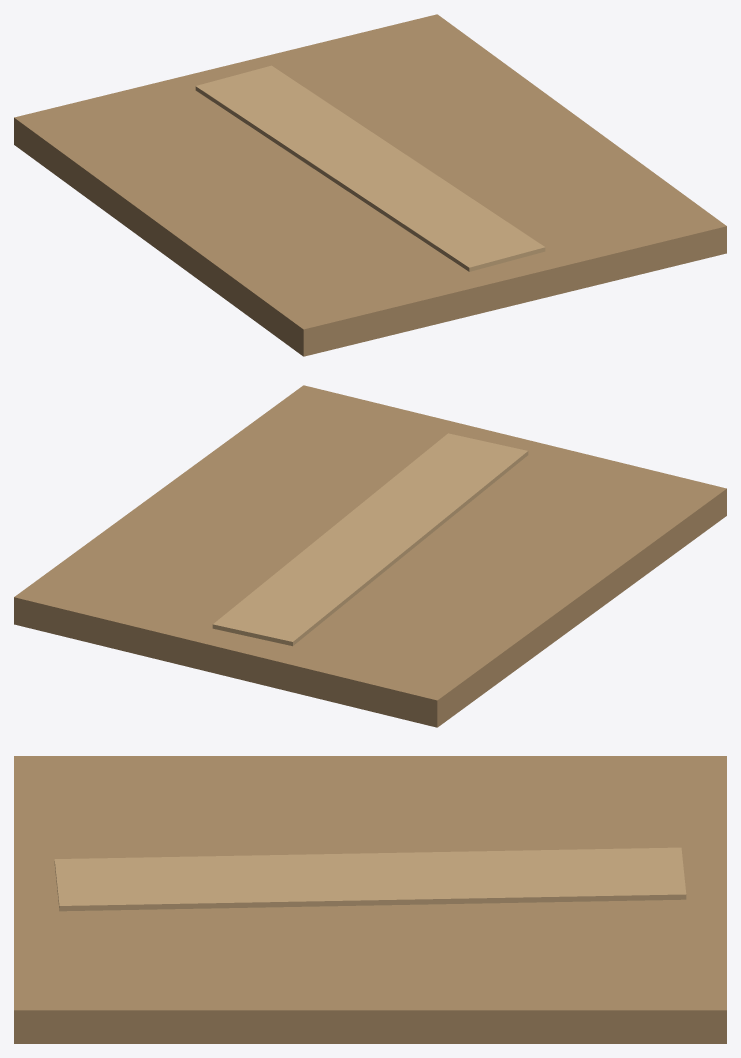
Rendered from track_dirt_1lane.glb.
3 views of the same model, one above another, from view 1: azimuth 30°, elevation 25°; view 2: azimuth 150°, elevation 25°; view 3: azimuth 270°, elevation 25° (orthographic). The views are drawn at different scales.
Parts seen in each view (by area): view 1: track_dirt_1lane; view 2: track_dirt_1lane; view 3: track_dirt_1lane.
Boxes of the visible parts, <box> form: track_dirt_1lane: <box>14,14,726,356</box>; track_dirt_1lane: <box>14,385,726,727</box>; track_dirt_1lane: <box>14,756,726,1043</box>.
Size of the model in its own units: 2.6 by 0.1905 by 3.08.
